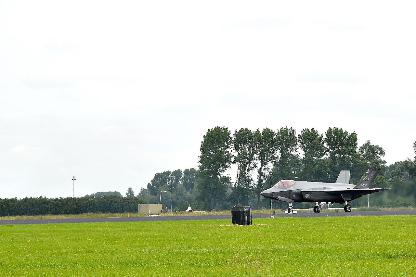F22: (259, 168, 391, 212)
